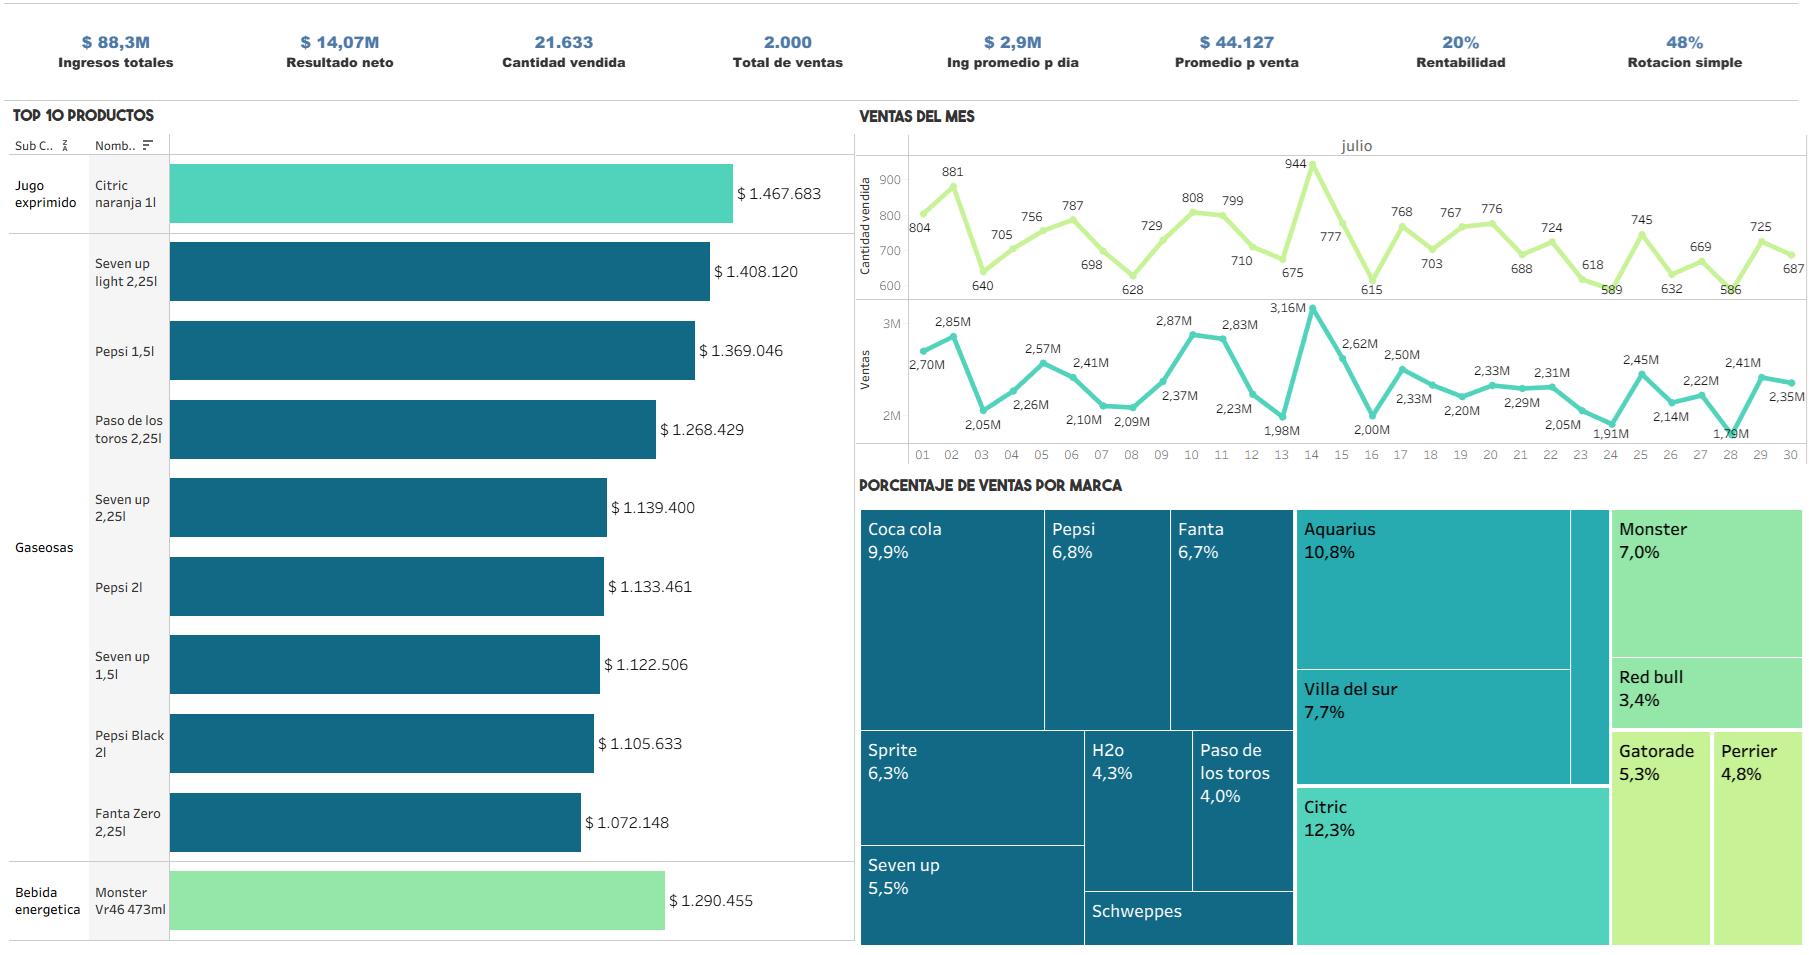

Layout of this report page (visuals, bound fields, positions):
{"tool":"tableau","page":{"name":"Dashboard 1","canvas":[1000,1000],"units":"permille","ordinal":0},"visuals":[{"type":"worksheet","title":"Indicadores","mark":"Automatic","box":[0.6,1.2,991.8,102.8]},{"type":"worksheet","title":"Top 10 productos","mark":"Automatic","rows":["Sub Category","Product Name"],"cols":["Precio Final"],"box":[3.5,104,467.5,878.5]},{"type":"worksheet","title":"Ventas del mes","mark":"Line","rows":["cantidad","Calculation_1107885514264731658"],"cols":["Fecha","Fecha"],"box":[471.5,105,525.7,379.2]},{"type":"worksheet","title":"Porcentaje de ventas de cada marca","mark":"Automatic","box":[471,490.1,526.3,501.8]}]}

Visuals, with their boxes on the dashboard's canvas, which has no fixed pixel size, in thousandths of its width and height (x1, y1, x2, y2). These are canvas units, not pixel positions in the 1809x955 screenshot, which may show the page scaled, cropped or inside an application window:
"Indicadores" worksheet: [1, 1, 992, 104]
"Top 10 productos" worksheet: [4, 104, 471, 982]
"Ventas del mes" worksheet (Line marks): [472, 105, 997, 484]
"Porcentaje de ventas de cada marca" worksheet: [471, 490, 997, 992]
